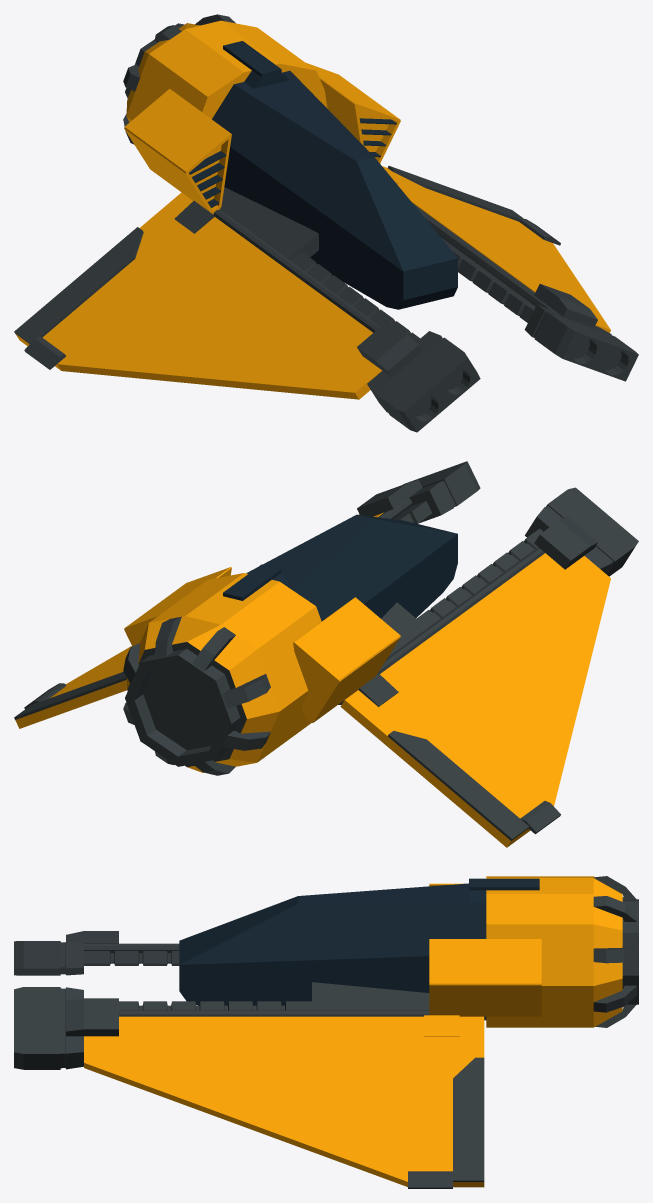
File: SpaceShip(lvl2).fbx
3 renders of one model, top to bottom at view 1: azimuth 30°, elevation 25°; view 2: azimuth 150°, elevation 25°; view 3: azimuth 270°, elevation 25°, orthographic. The views are drawn at different scales.
Visible parts, largest first — view 1: Cube.025; view 2: Cube.025; view 3: Cube.025.
Boxes of the visible parts, <box> form: Cube.025: <box>14,14,638,432</box>; Cube.025: <box>14,461,638,847</box>; Cube.025: <box>14,876,638,1188</box>.
Bounding box in the file's own units: 5.33 × 2.14 × 6.19.
